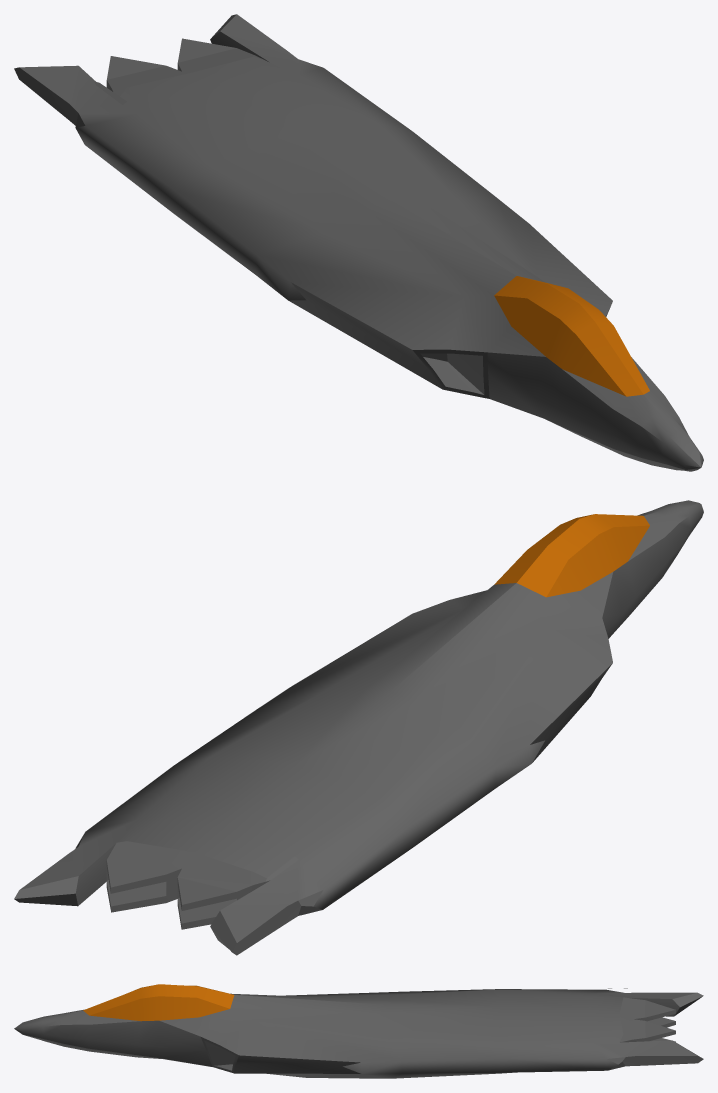
Rendered from F22_body.fbx.
The picture shows the model from 3 angles, top to bottom: view 1: azimuth 30°, elevation 25°; view 2: azimuth 150°, elevation 25°; view 3: azimuth 270°, elevation 25°; orthographic projection. The views are drawn at different scales.
Visible parts, largest first — view 1: Body; view 2: Body; view 3: Body.
Boxes of the visible parts, bbox=[...] form: Body: bbox=[14, 14, 703, 471]; Body: bbox=[14, 500, 703, 955]; Body: bbox=[14, 984, 703, 1078].
Size of the model in its own units: 1.83 by 0.9424 by 7.53.
